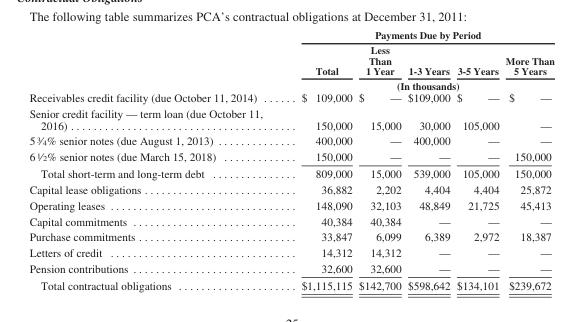table: (28, 28, 553, 291)
table column: (28, 28, 281, 291), (281, 28, 354, 291), (501, 28, 553, 291), (354, 28, 403, 291), (403, 28, 452, 291), (452, 28, 501, 291)
table column header: (28, 28, 553, 90)
table row: (28, 42, 553, 77), (28, 104, 553, 131), (28, 147, 553, 165), (28, 131, 553, 147), (28, 165, 553, 181), (28, 181, 553, 197), (28, 212, 553, 228), (28, 228, 553, 244), (28, 244, 553, 260), (28, 260, 553, 276), (28, 197, 553, 212), (28, 276, 553, 291), (28, 28, 553, 42), (28, 90, 553, 104), (28, 77, 553, 90)
table spanning cell: (281, 28, 553, 42), (281, 77, 553, 90)
